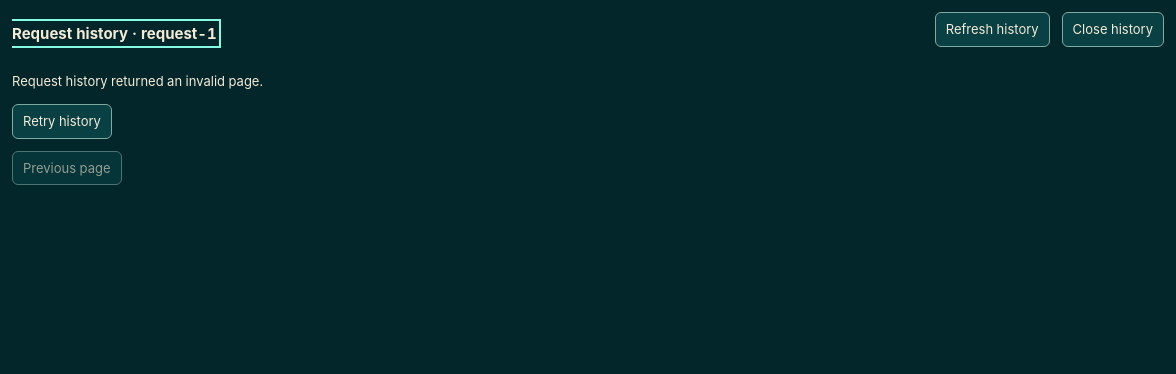
Test: retained request inspection › offers first-load Retry and keeps a loaded page through failed next/refresh reads
Expected: the button "Refresh history" is enabled, [935,12,1050,47]
Expected: the message "Request history returned an invalid page. Retry history" is shown, [12,73,263,138]
Click the button "Retry history": click(62, 121) [12,104,112,138]
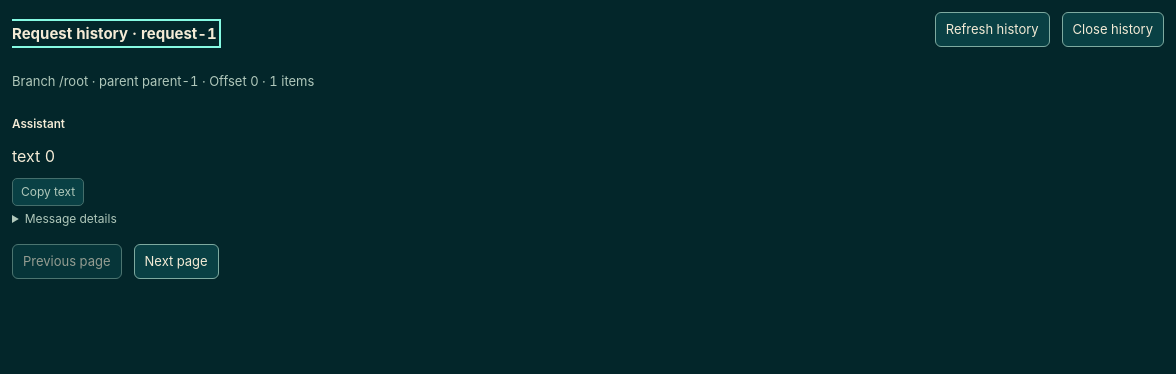
Expected: the button "Refresh history" is enabled, [935,12,1050,47]
Click the button "Next page": click(176, 261) [134,244,219,279]
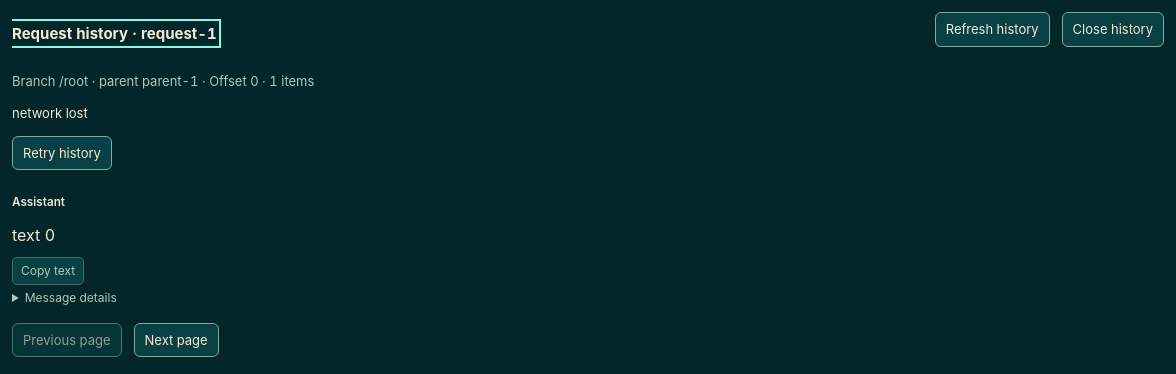
Expected: the button "Refresh history" is enabled, [935,12,1050,47]
Result: the element named "Text item 0" is shown at [12,225,55,245]
Result: the message shows "network lost" at [12,105,88,121]
Click the button "Retry history": click(62, 153) [12,136,112,170]
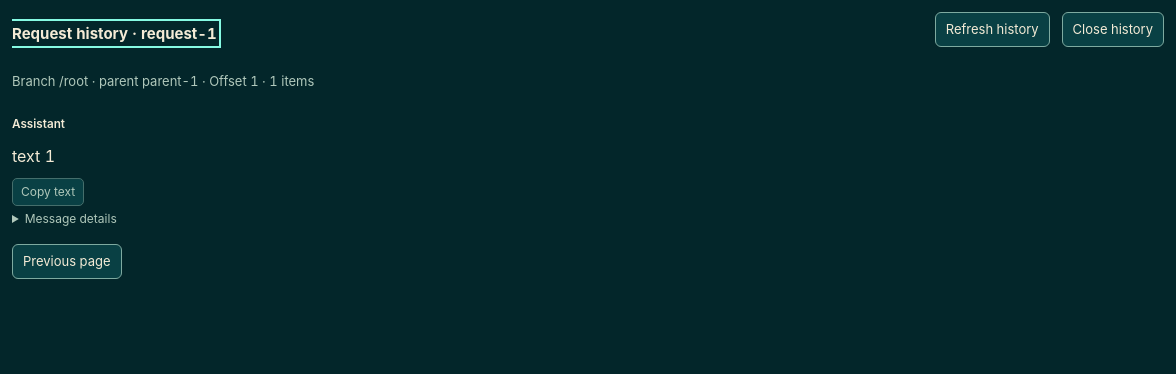
Result: the element named "Text item 1" is shown at [12,146,55,166]
Click the button "Refresh history": click(992, 29) [935,12,1050,47]
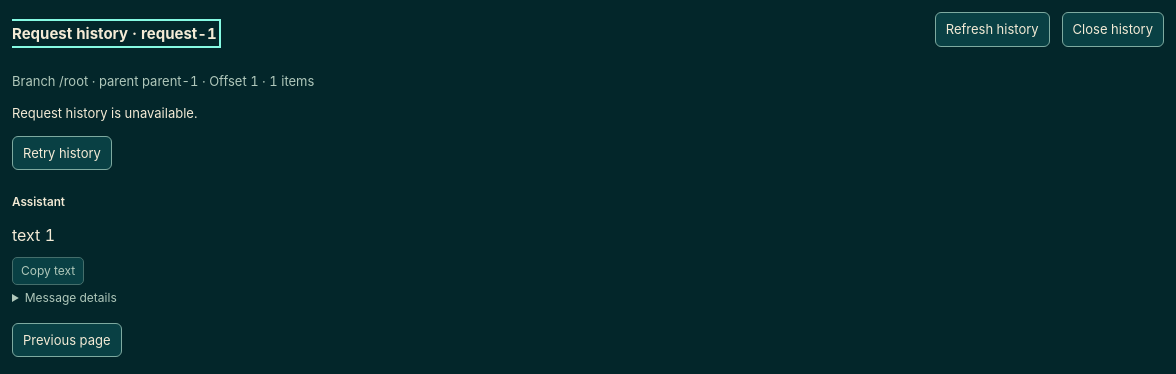
Result: the element named "Text item 1" is shown at [12,225,55,245]
Click the button "Retry history": click(62, 153) [12,136,112,170]
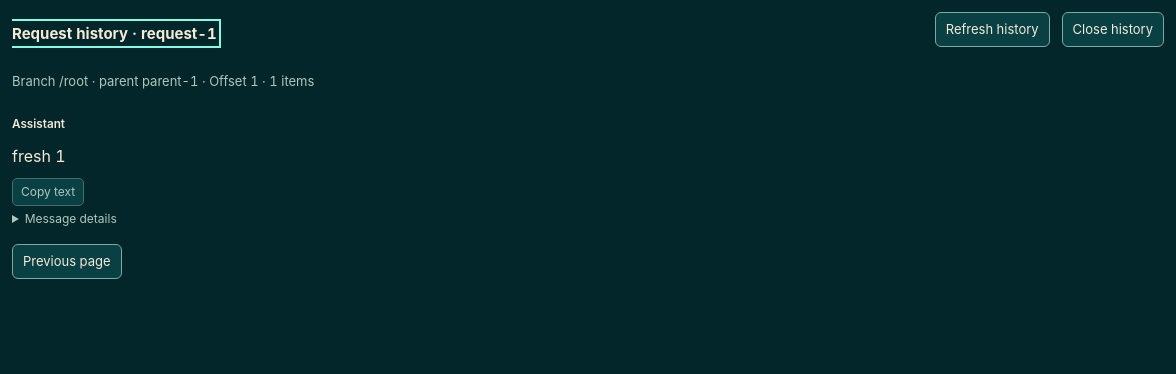
Expected: the button "Refresh history" is enabled, [935,12,1050,47]
Result: the list named "Retained request items" shows "fresh 1" at [12,146,66,166]
